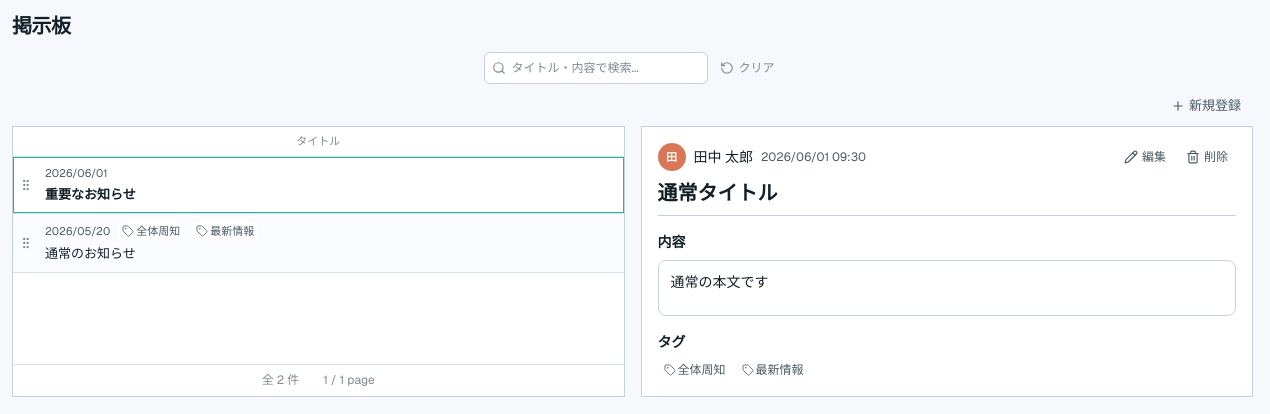
Test: DashboardView › 検索キーワード指定時、詳細ペインのタイトル・本文の一致箇所をハイライトする（hom-0110）
Step 1. Type "通常" into the search field with placeholder "タイトル・内容で検索..." → (596, 68), box [484,52,708,84]
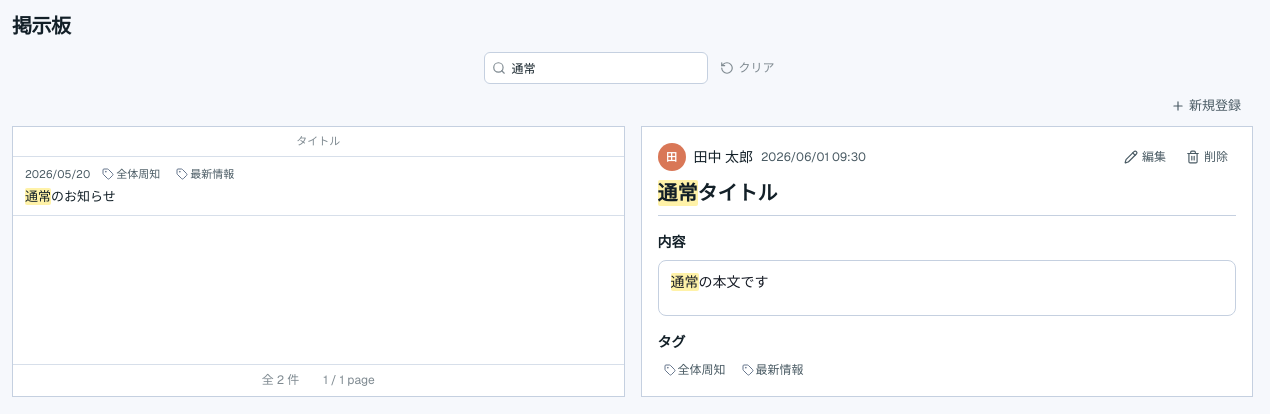
Check: the text "通常" is shown 2 times, box [658,180,698,206]; [670,273,698,291]
